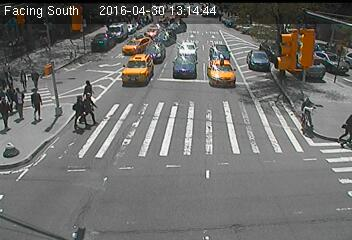neg: (291, 94, 321, 133), (277, 70, 288, 85)
pos: (65, 93, 93, 129), (22, 87, 47, 120), (6, 86, 30, 117), (77, 91, 100, 122), (334, 108, 351, 148), (1, 83, 21, 112), (26, 65, 42, 86), (16, 68, 30, 88), (2, 68, 15, 85), (82, 78, 94, 94)
